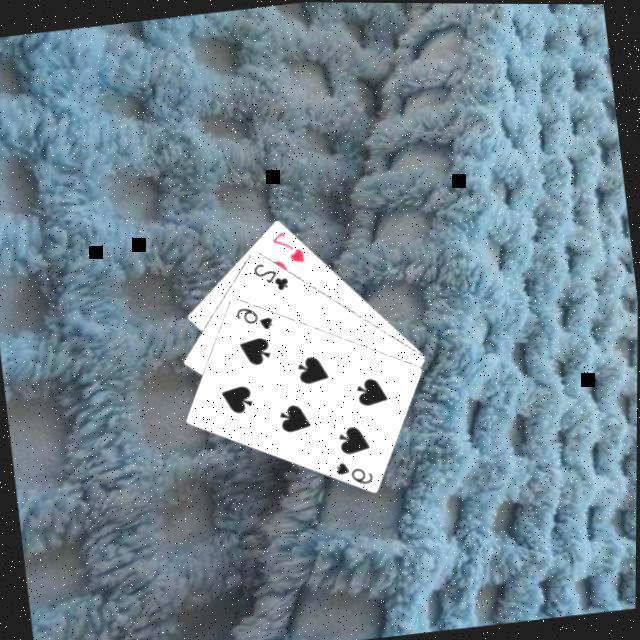2C: (250, 257, 293, 297)
6S: (232, 301, 277, 336), (333, 455, 378, 490)
7H: (268, 226, 308, 269)
